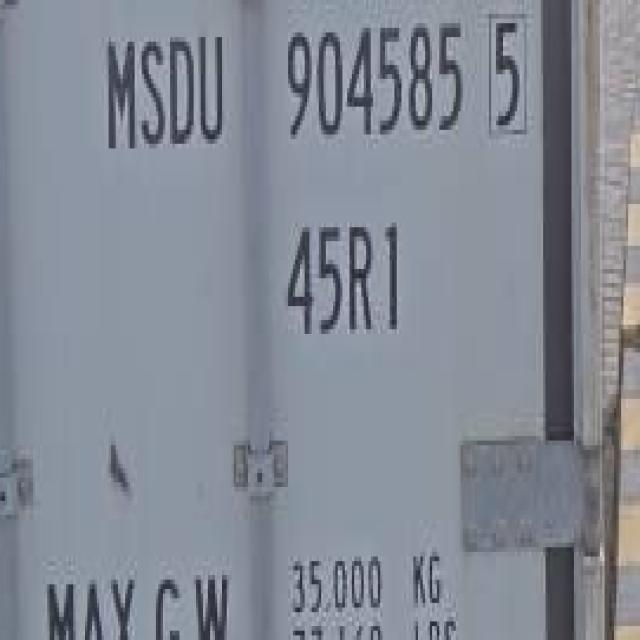dv: (482, 6, 532, 146)
owner: (95, 20, 228, 160)
serial: (280, 13, 465, 151)
size: (280, 210, 404, 350)
